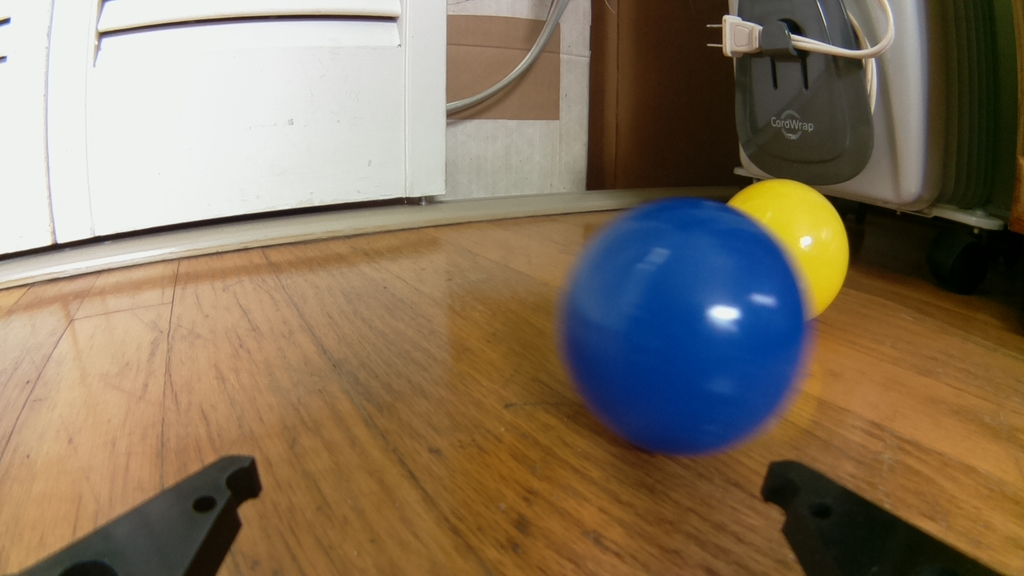ball: (720, 175, 852, 324)
